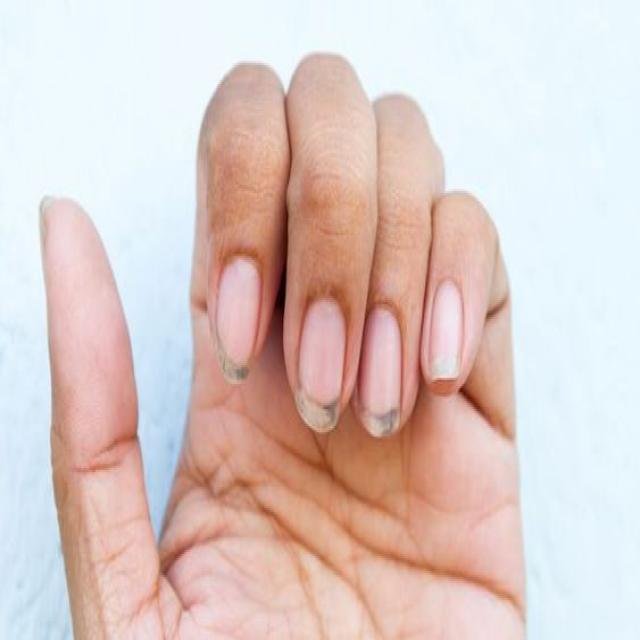Fingernail: (295, 295, 346, 433), (216, 255, 263, 386), (358, 304, 401, 439), (428, 280, 464, 383), (38, 194, 52, 249)
